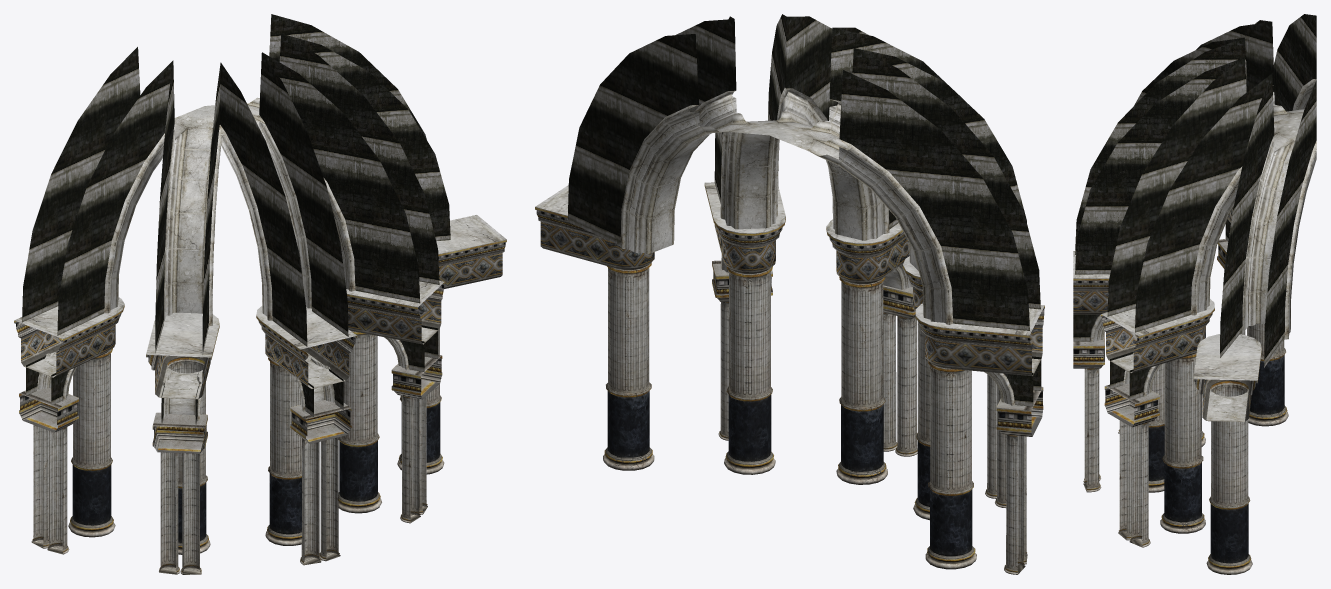
The model's file is KnightCastle_LibraryPillars.FBX.
3 views of the same model, side by side, from view 1: azimuth 30°, elevation 25°; view 2: azimuth 150°, elevation 25°; view 3: azimuth 270°, elevation 25° (orthographic). The views are drawn at different scales.
Parts seen in each view (by area): view 1: SM_KnightCastle_LibraryPillars; view 2: SM_KnightCastle_LibraryPillars; view 3: SM_KnightCastle_LibraryPillars.
Boxes of the visible parts, box(x1,y1,x2,y2) form: SM_KnightCastle_LibraryPillars: box(14, 14, 506, 574); SM_KnightCastle_LibraryPillars: box(535, 14, 1044, 574); SM_KnightCastle_LibraryPillars: box(1073, 14, 1316, 574).
Bounding box in the file's own units: 2320 × 1095 × 2164.
